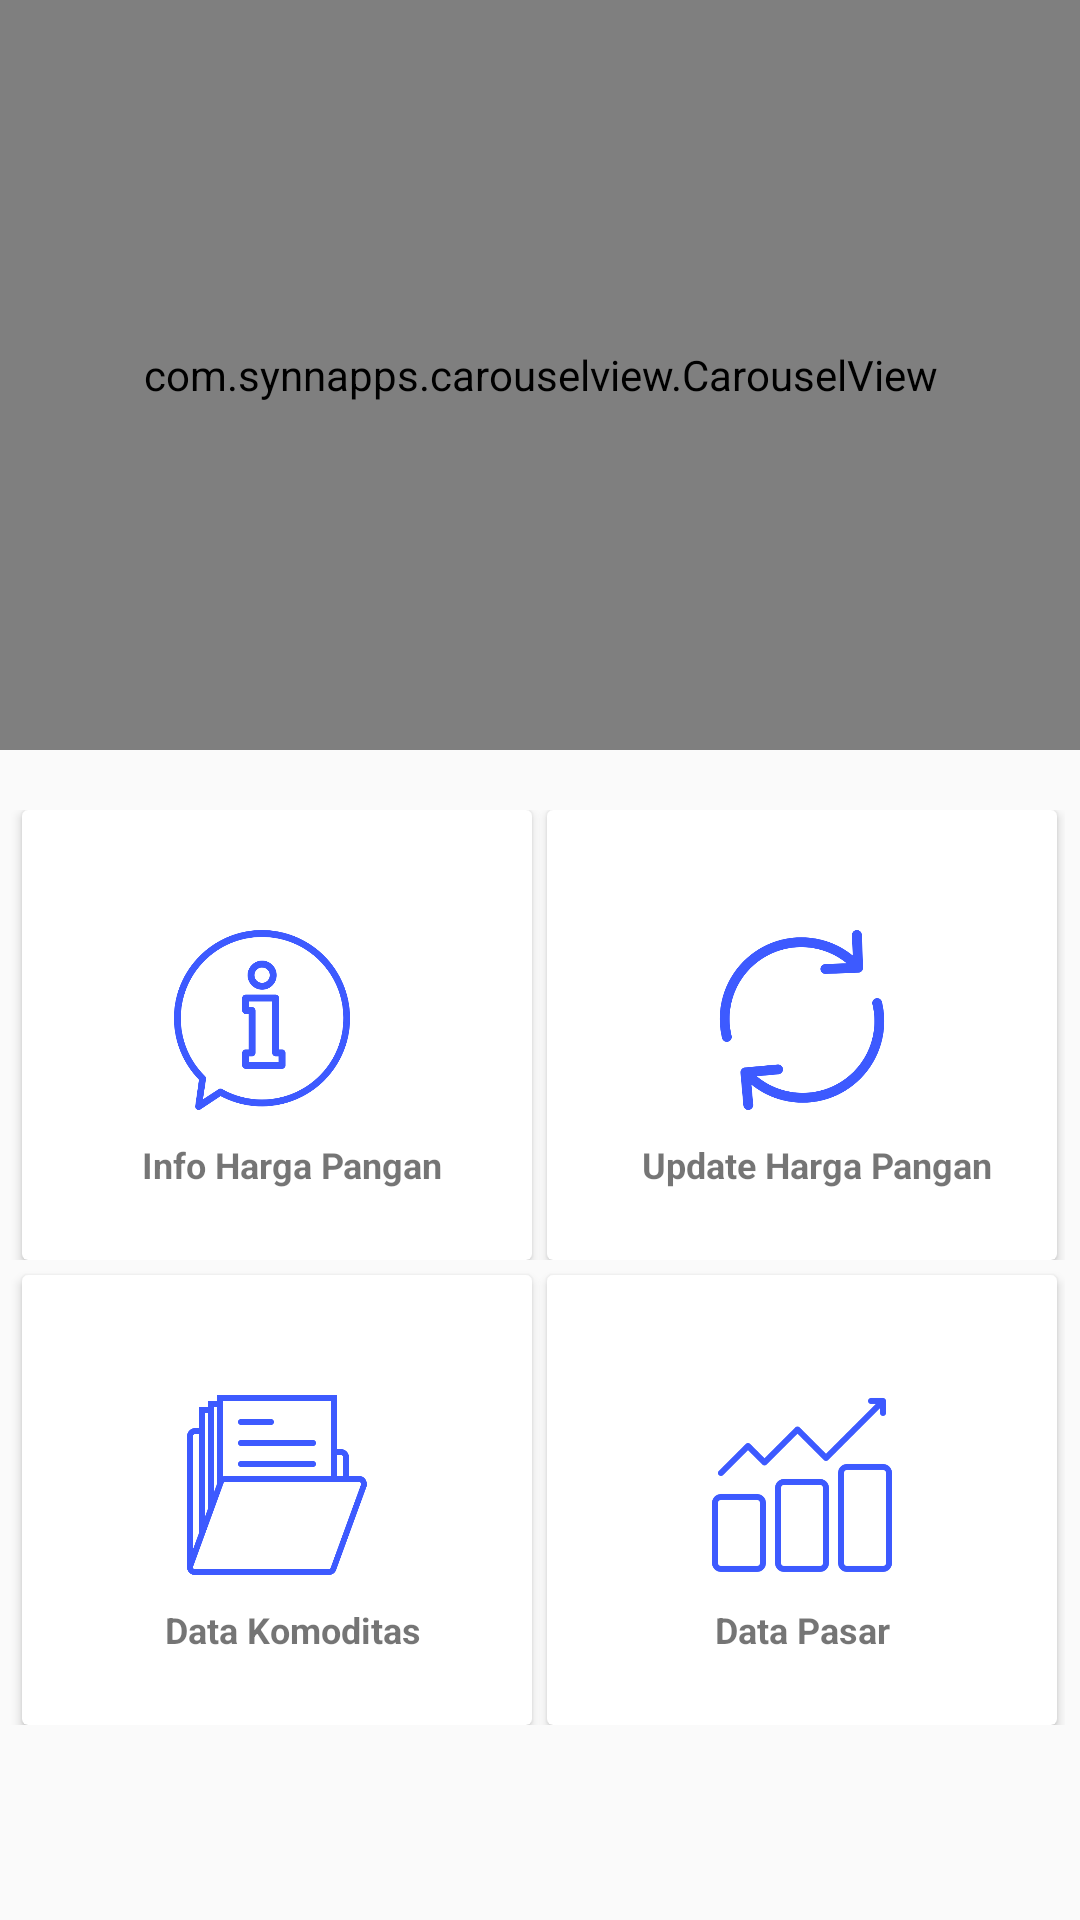

Point at icon controls on the screen. Image size 1080x1920, points as (x,y).
folder: (277,1485)
help: (262,1020)
reload: (802,1020)
